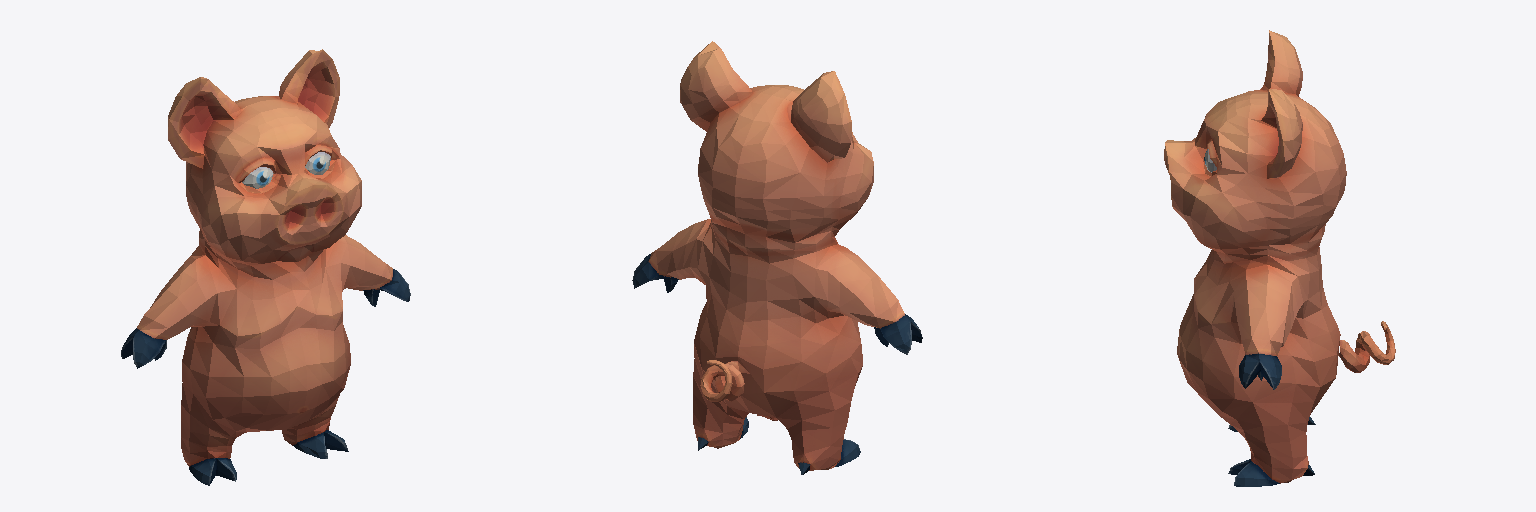
The picture shows the model from 3 angles: view 1: azimuth 30°, elevation 25°; view 2: azimuth 150°, elevation 25°; view 3: azimuth 270°, elevation 25°; orthographic projection.
Parts seen in each view (by area): view 1: Pig_low_Retopo_pig.002; view 2: Pig_low_Retopo_pig.002, Tail_low_Retopo_pig.001; view 3: Pig_low_Retopo_pig.002, Tail_low_Retopo_pig.001.
Boxes of the visible parts, box(x1,y1,x2,y2) form: Pig_low_Retopo_pig.002: box(121, 49, 410, 485); Pig_low_Retopo_pig.002: box(632, 41, 922, 474); Tail_low_Retopo_pig.001: box(700, 360, 749, 401); Pig_low_Retopo_pig.002: box(1164, 30, 1346, 486); Tail_low_Retopo_pig.001: box(1338, 321, 1395, 372).
Bounding box in the file's own units: 3.22 × 4.33 × 2.32.
2 materials, 2 textured.